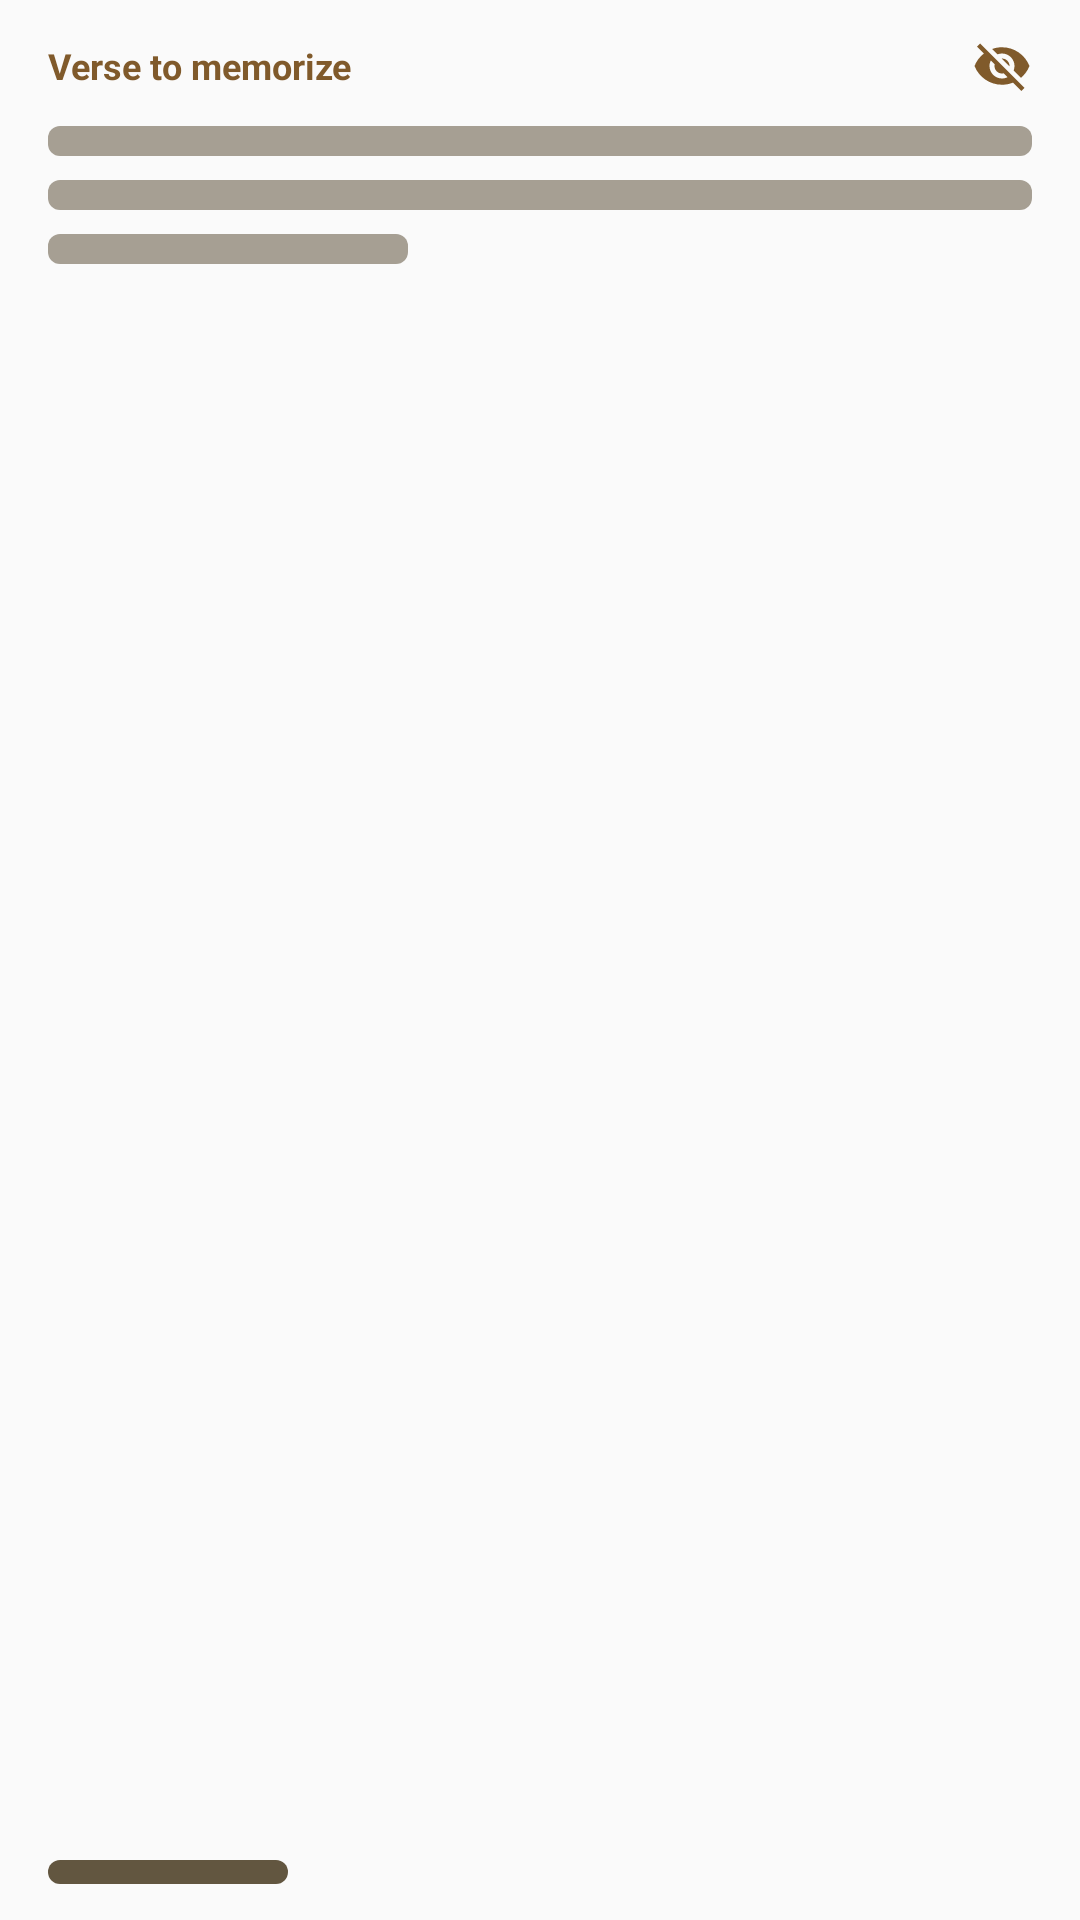

Icons on this 1080*1920 Android screen, each with the point to tap as point (x, y):
widget hide words: point (1002, 67)
